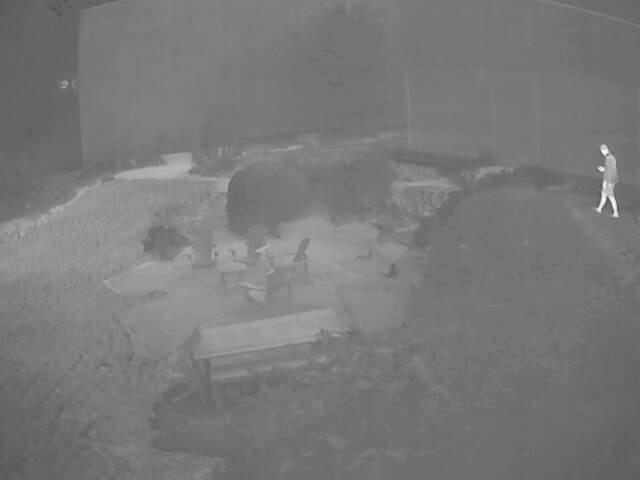person: (597, 143, 619, 220)
